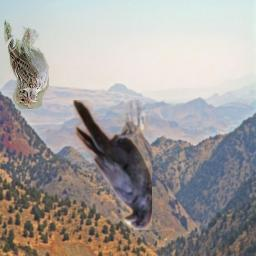Crow: (73, 100, 152, 230)
Sparrow: (4, 20, 49, 109)
